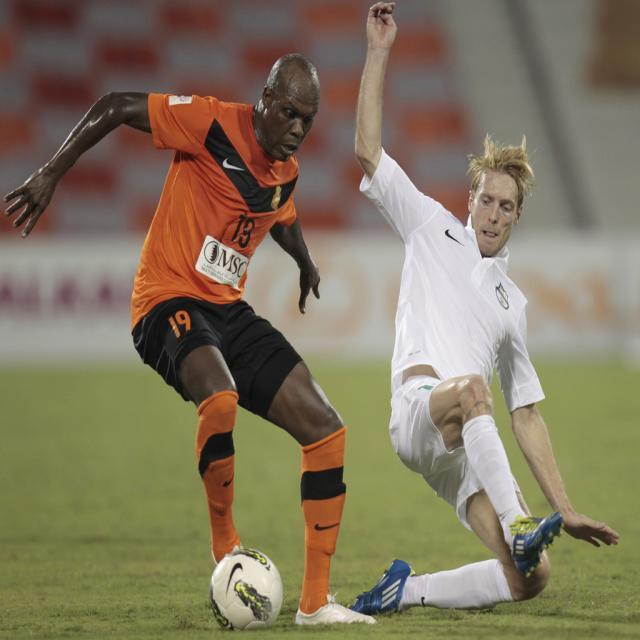football: (201, 528, 291, 633)
